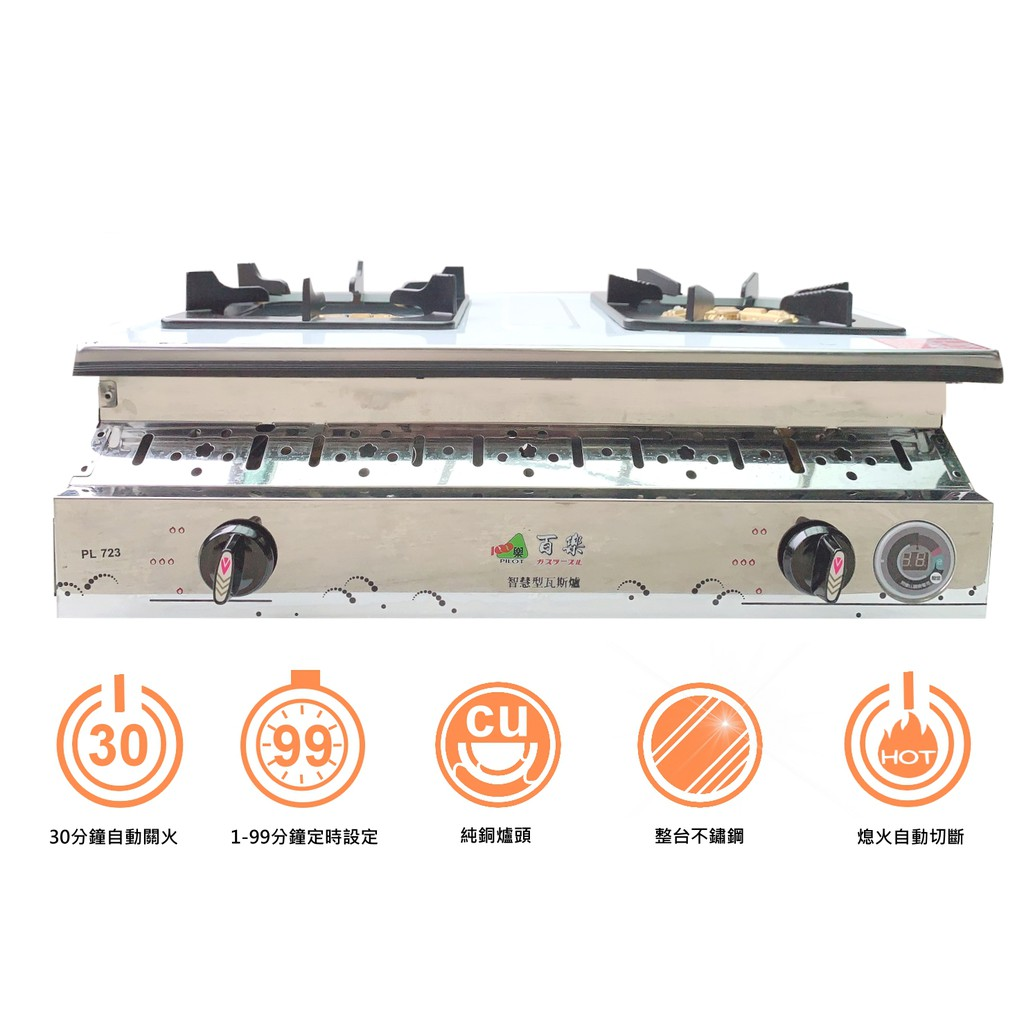gasoven: (37, 246, 1001, 636)
